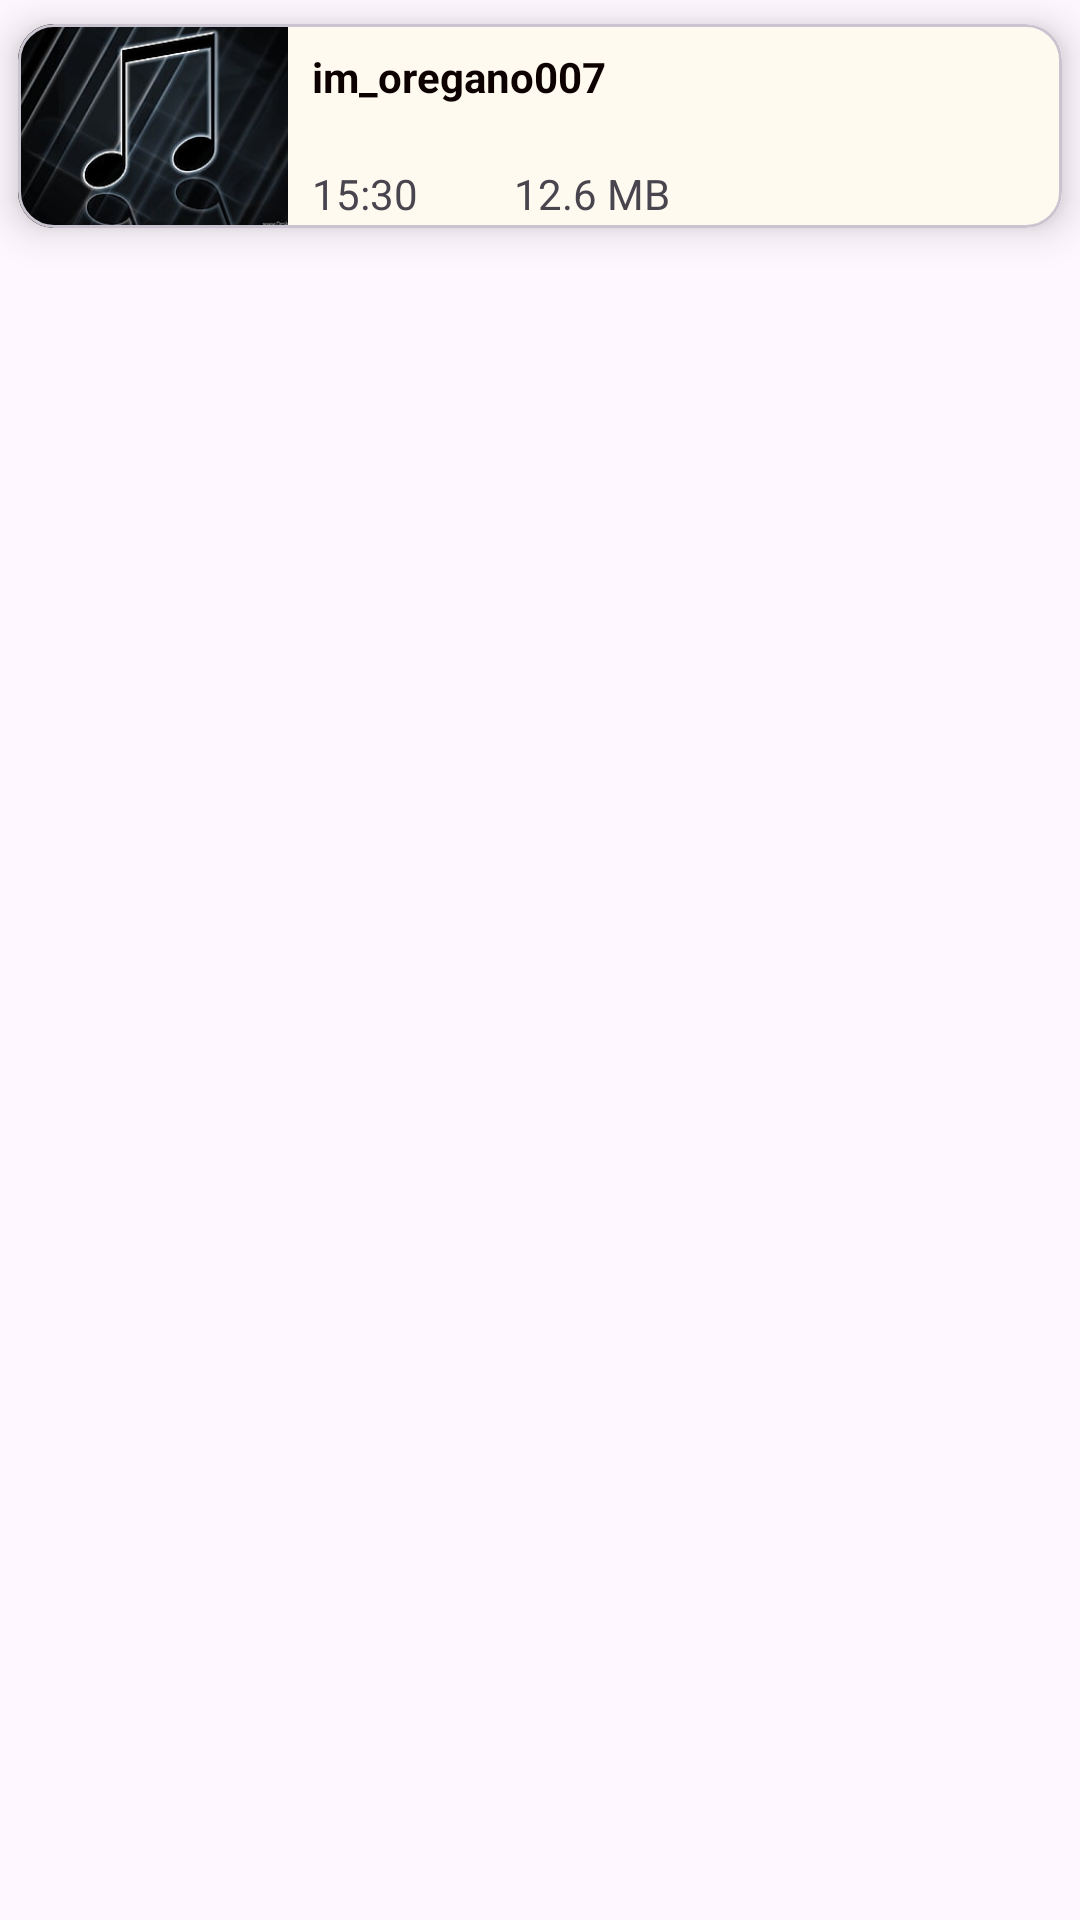

Where icons sit on this 1080×1920 app screen, as [x1=x1, y1=y1, x2=x2, y2=y2]:
songart: [x1=18, y1=24, x2=288, y2=228]
